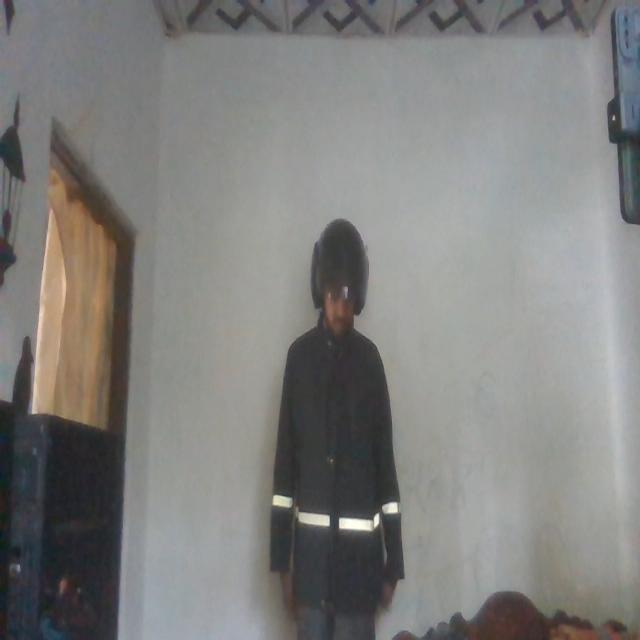Helmet_Wearer: (302, 218, 370, 339)
Jacket_Wearer: (274, 330, 400, 634)
Person: (271, 219, 404, 640)
